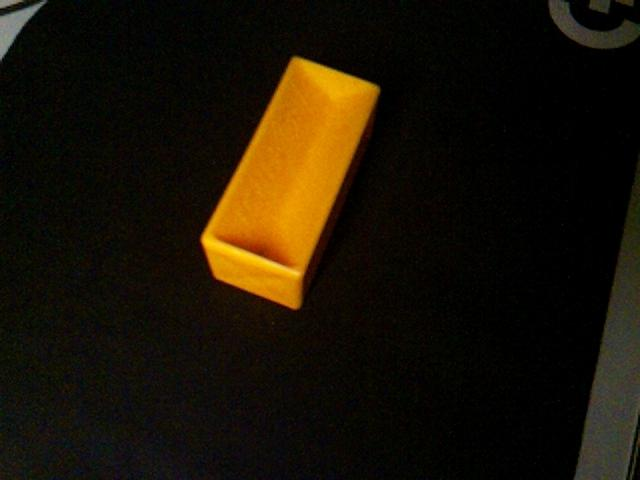yellow: (199, 54, 382, 311)
